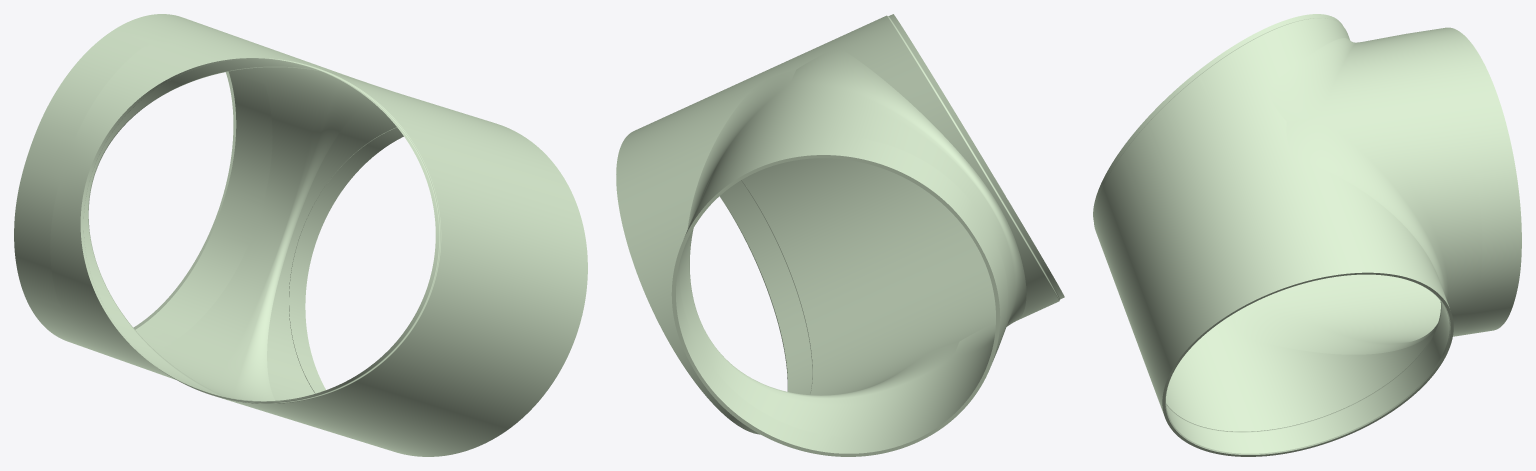
File: Joint_4.fbx
The picture shows the model from 3 angles, left to right: view 1: azimuth 30°, elevation 25°; view 2: azimuth 150°, elevation 25°; view 3: azimuth 270°, elevation 25°; orthographic projection. The views are drawn at different scales.
Parts seen in each view (by area): view 1: Joint_4.002; view 2: Joint_4.002; view 3: Joint_4.002.
Boxes of the visible parts, x1=… form: Joint_4.002: x1=14, y1=14, x2=587, y2=456; Joint_4.002: x1=616, y1=14, x2=1064, y2=456; Joint_4.002: x1=1093, y1=14, x2=1521, y2=456.
Bounding box in the file's own units: 13.79 × 12.26 × 12.65.
